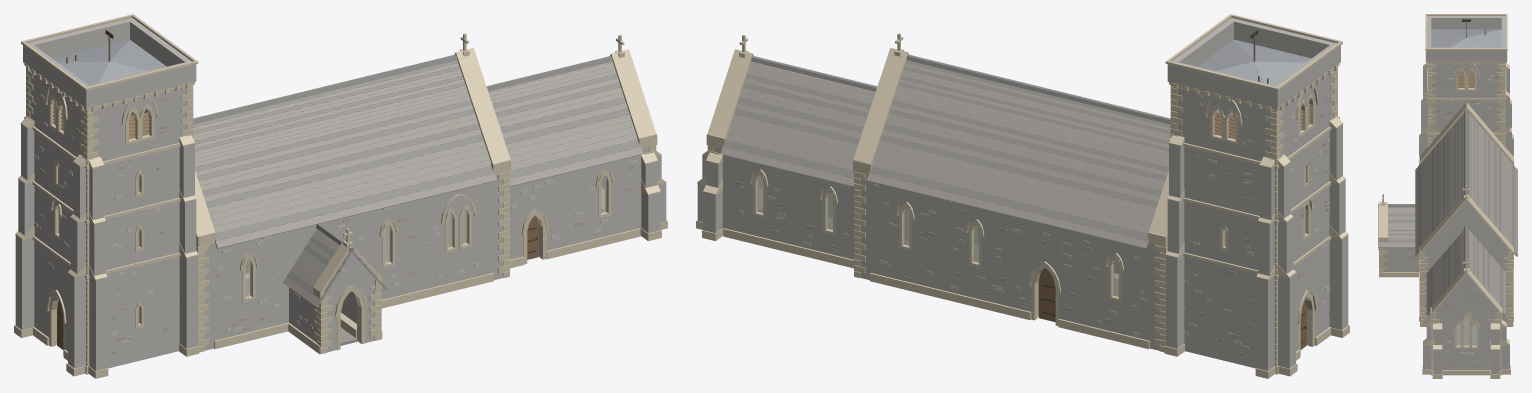
Rendered from mendip-a.glb.
3 views of the same model, side by side, from view 1: azimuth 30°, elevation 25°; view 2: azimuth 150°, elevation 25°; view 3: azimuth 270°, elevation 25° (orthographic). The views are drawn at different scales.
Parts seen in each view (by area): view 1: rubble (×15), roof (×7), dress (×14), roof2 (×7), lead; view 2: rubble (×14), roof (×6), dress (×14), roof2 (×6), lead, oak; view 3: rubble (×7), roof (×7), dress (×8), roof2 (×7), lead, glass, floor, timber, rubble2.
Boxes of the visible parts, x1,y1,x2,y2 form: rubble (×15): (15,18,666,370); roof (×7): (193,61,643,307); dress (×14): (14,14,667,378); roof2 (×7): (193,54,640,300); lead: (52,39,166,85); rubble (×14): (697,18,1348,370); roof (×6): (720,61,1170,248); dress (×14): (696,14,1349,378); roof2 (×6): (723,54,1170,240); lead: (1197,39,1311,85); oak: (1038,267,1055,322); rubble (×7): (1379,16,1512,373); roof (×7): (1378,113,1517,316); dress (×8): (1378,14,1513,378); roof2 (×7): (1378,109,1514,312); lead: (1431,29,1501,47); glass: (1456,316,1476,345); floor: (1456,327,1476,344); timber: (1458,28,1485,87); rubble2: (1445,288,1497,366).
Bounding box in the file's own units: 34.22 × 16.95 × 10.9.
